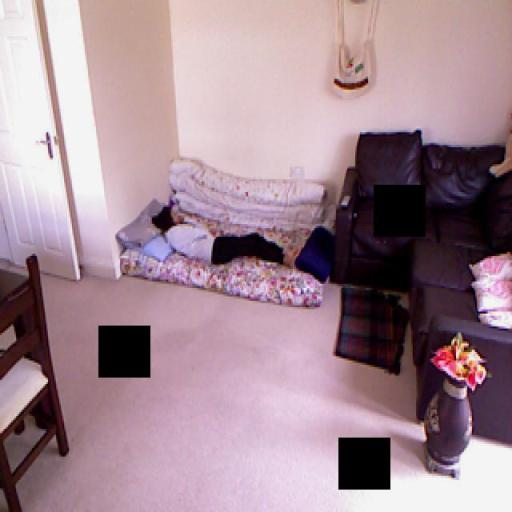Fall: (149, 203, 302, 271)
